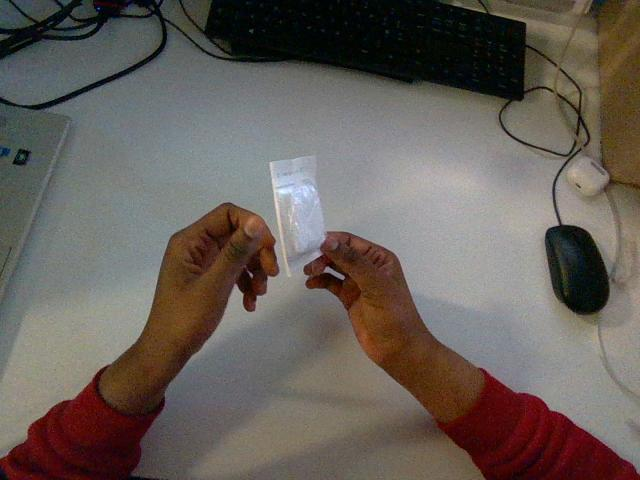gauze: (270, 156, 325, 275)
